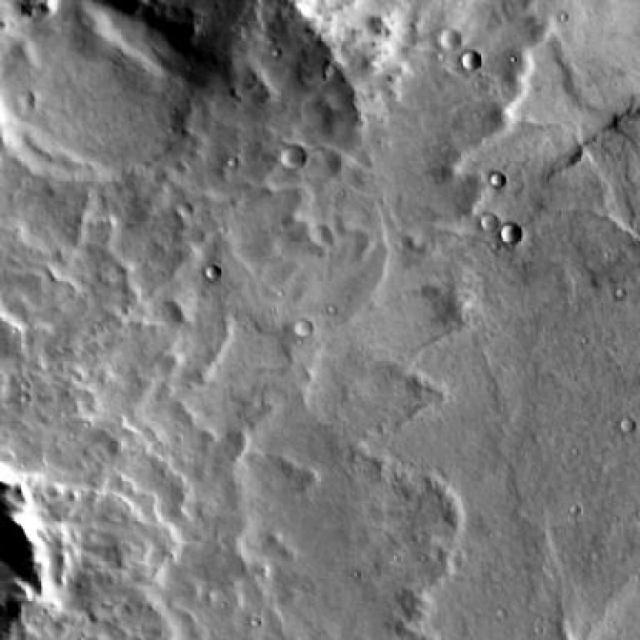crater: (0, 0, 186, 183), (498, 223, 520, 245), (280, 149, 302, 169), (436, 29, 456, 49), (204, 263, 222, 282), (480, 212, 497, 228), (463, 52, 480, 68), (296, 322, 312, 336), (489, 174, 503, 188)
